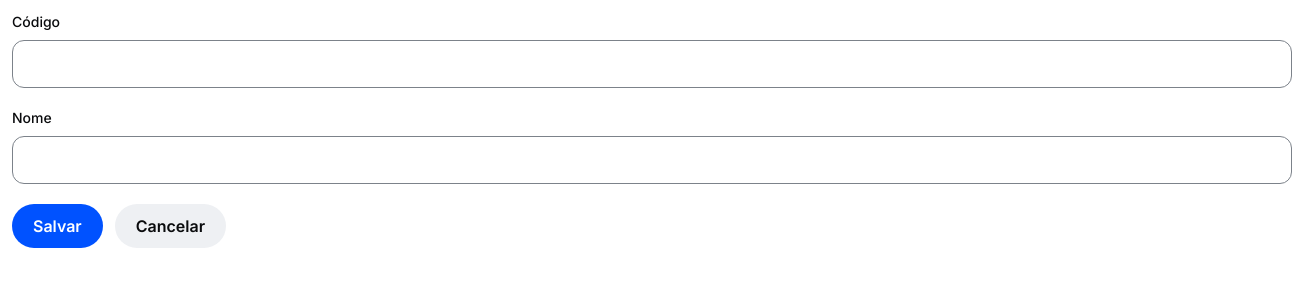
GrupoForm › exibe sob o campo o erro de duplicidade vindo de um 409
The image size is (1304, 293).
Type "hem" into the field labelled "Código" at [652, 64], box [12,40,1292,88]
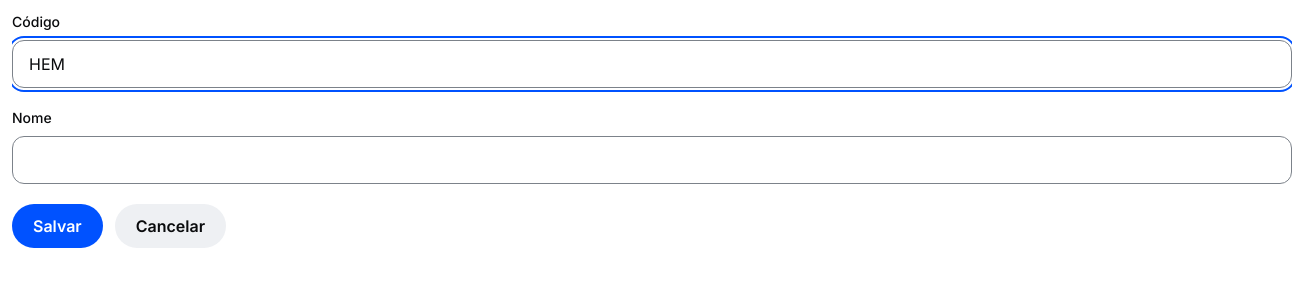
Type "Hematologia" into the field labelled "Nome" at [652, 160], box [12,136,1292,184]
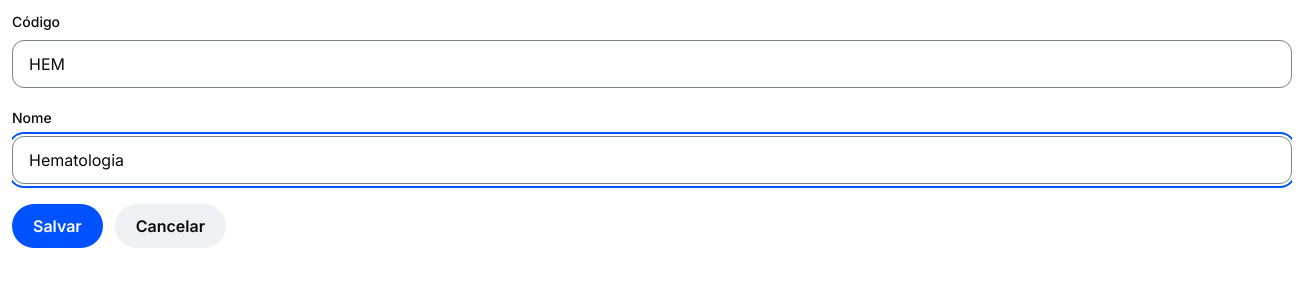
Click the button "Salvar" at [57, 226], box [12,204,103,248]
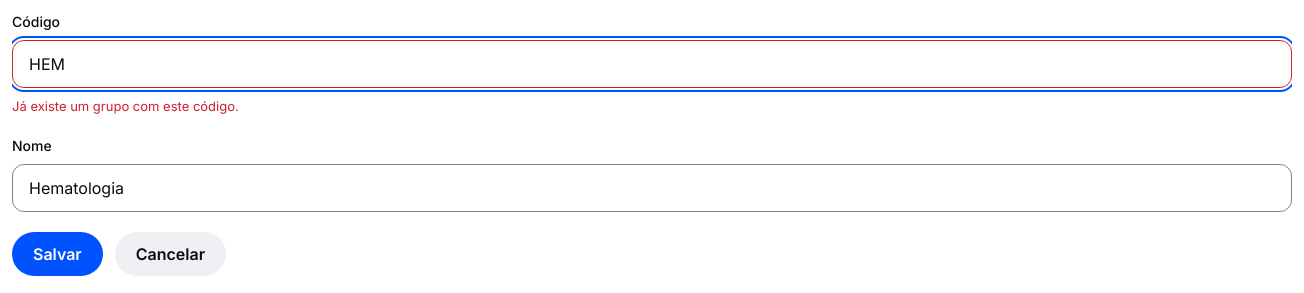
expect the text "Já existe um grupo com este código." is shown: met, box [12,98,239,114]
